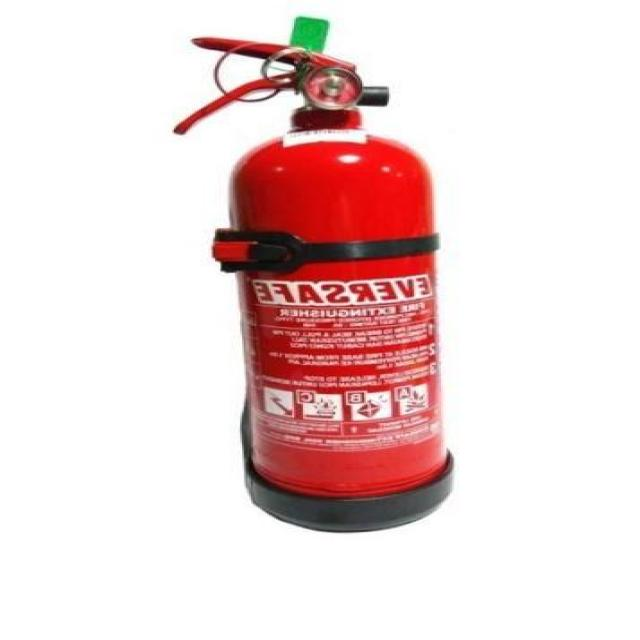fire_extinguisher: (160, 12, 464, 536)
